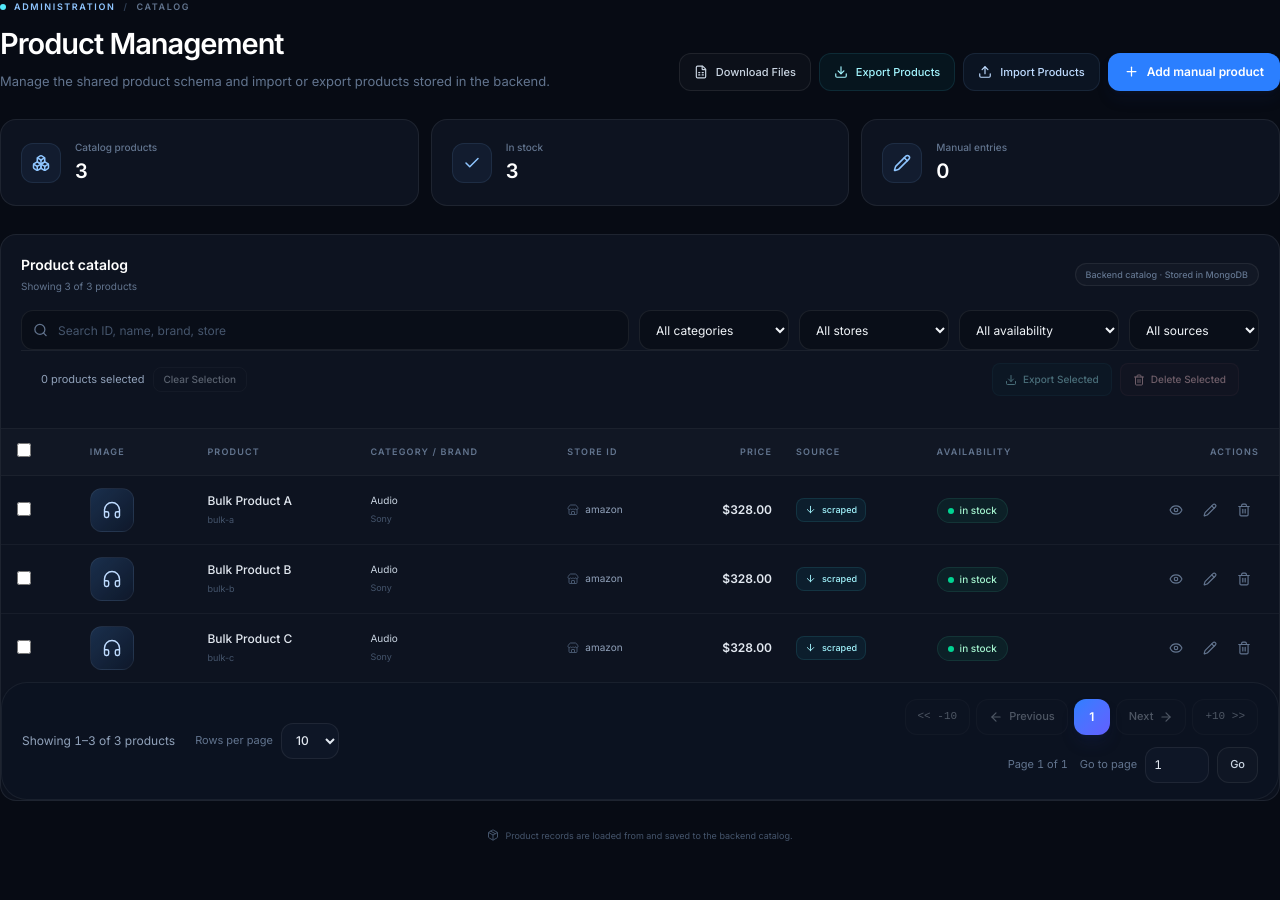
Test: admin and shared user pages › deletes only selected products and writes exactly one bulk DELETE event
Click the checkbox named "Select bulk-a": {"x": 24, "y": 508} [17,502,31,516]
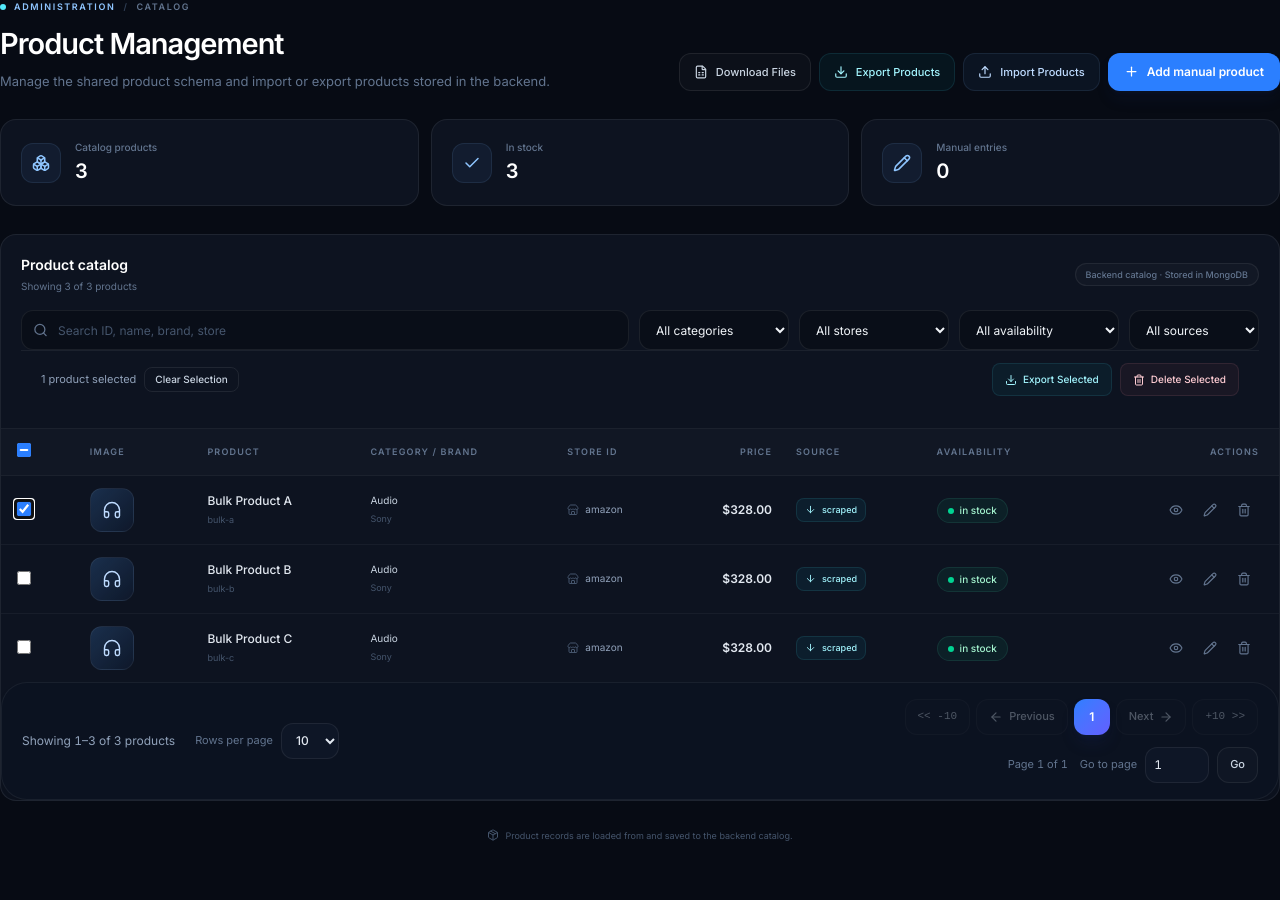
Click the checkbox named "Select bulk-b": {"x": 24, "y": 578} [17,570,31,584]
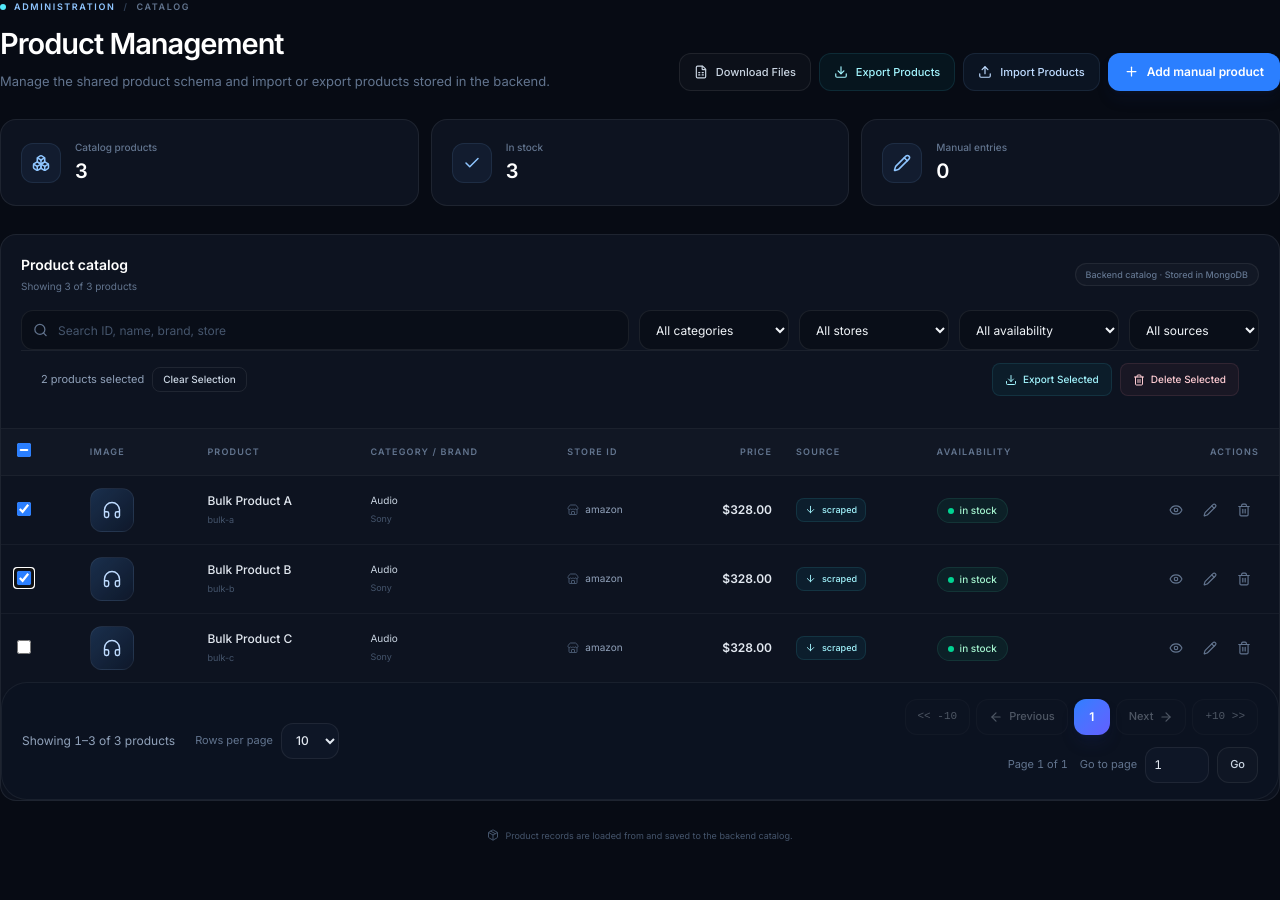
Click the button "Delete Selected": {"x": 1179, "y": 380} [1120,363,1239,396]
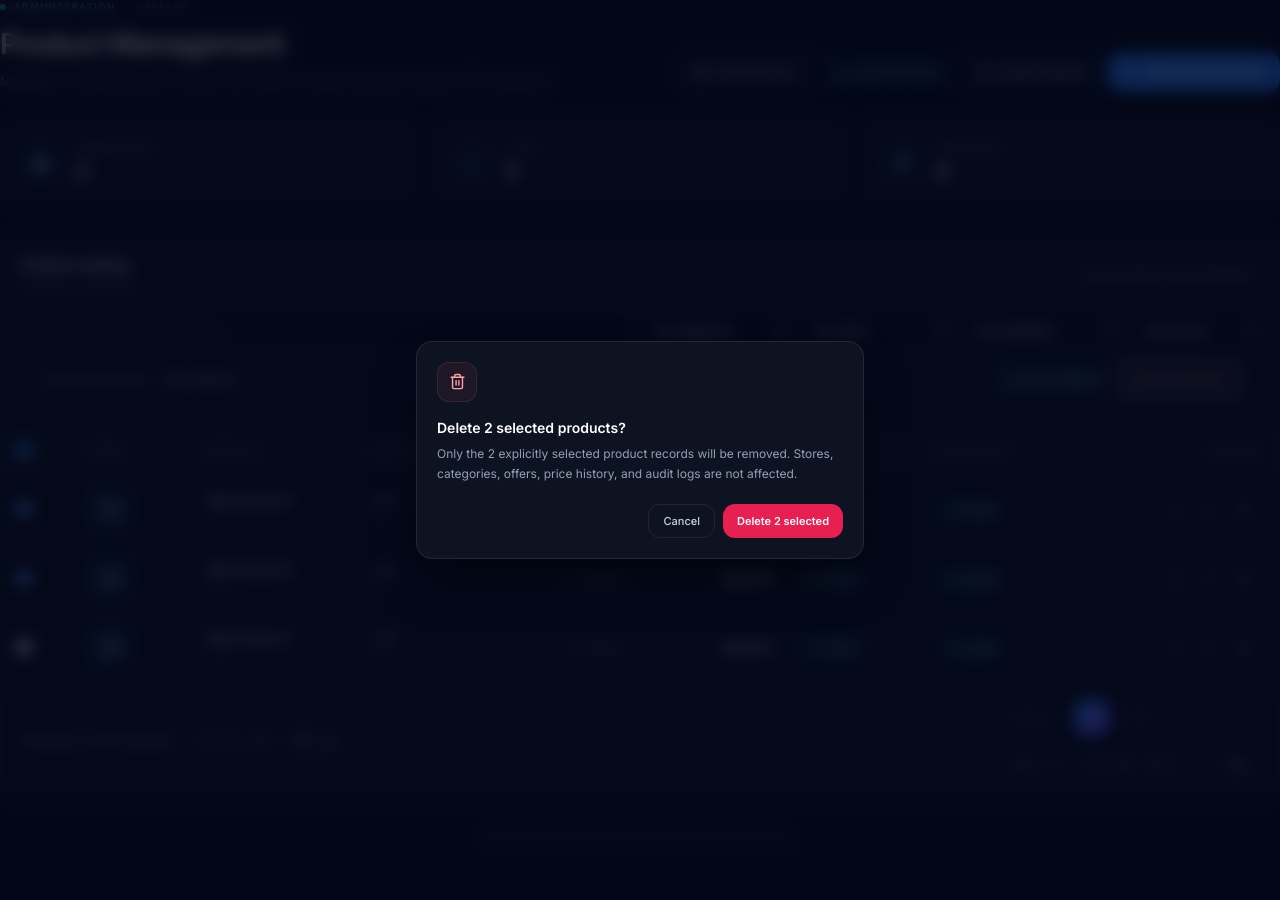
Now the dialog shows "Delete 2 selected products?", box [416,341,864,559]
Click the button "Delete 2 selected": {"x": 783, "y": 521} [723,504,843,538]
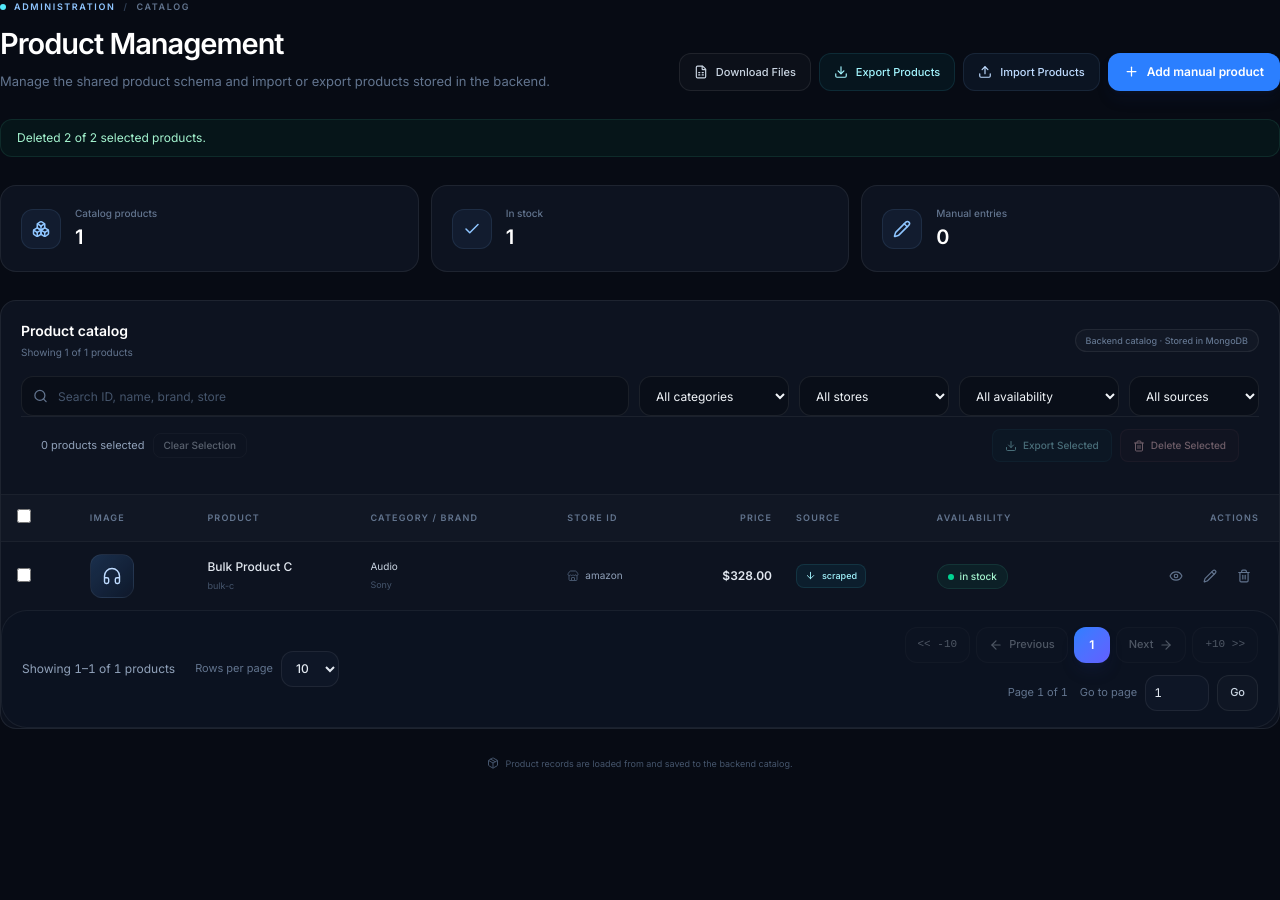
Now the text "0 products selected" is shown, box [41,437,144,454]
